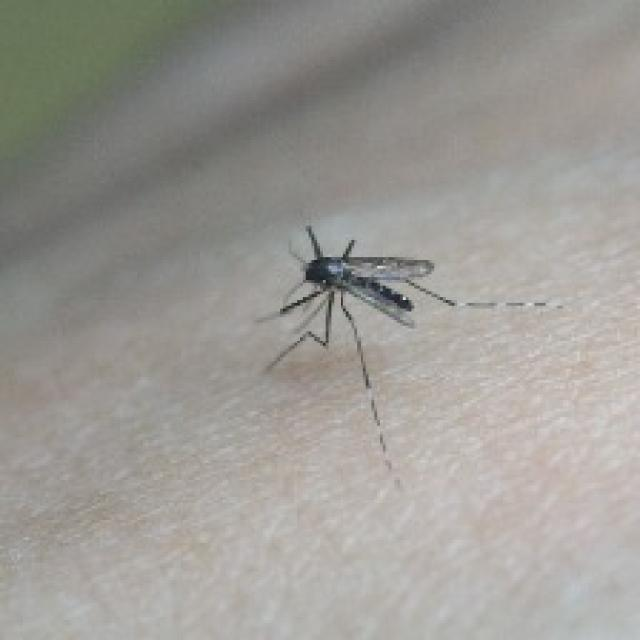aedes: (251, 220, 563, 471)
